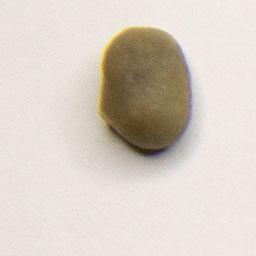premium: (97, 23, 195, 153)
